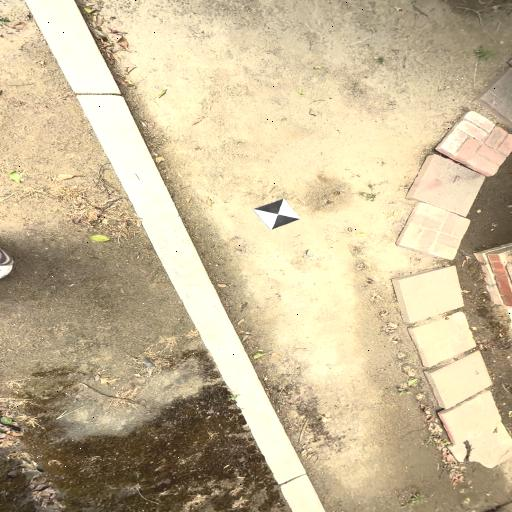target: (253, 199, 301, 230)
